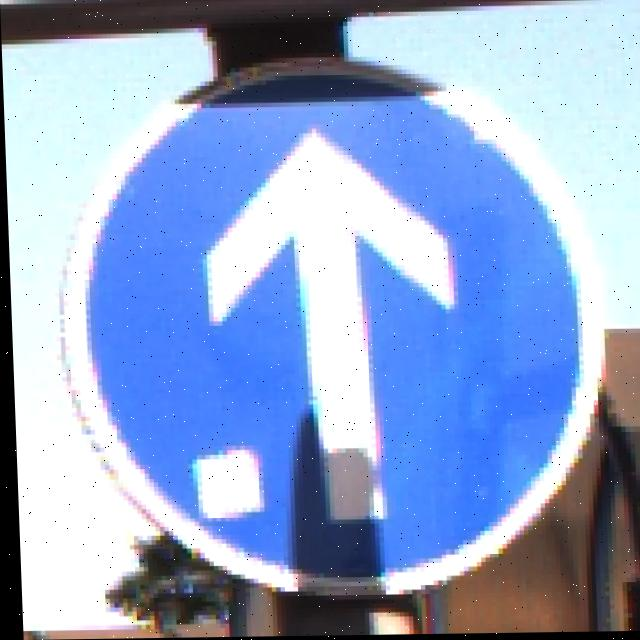compulsory_ahead: (77, 64, 595, 557)
